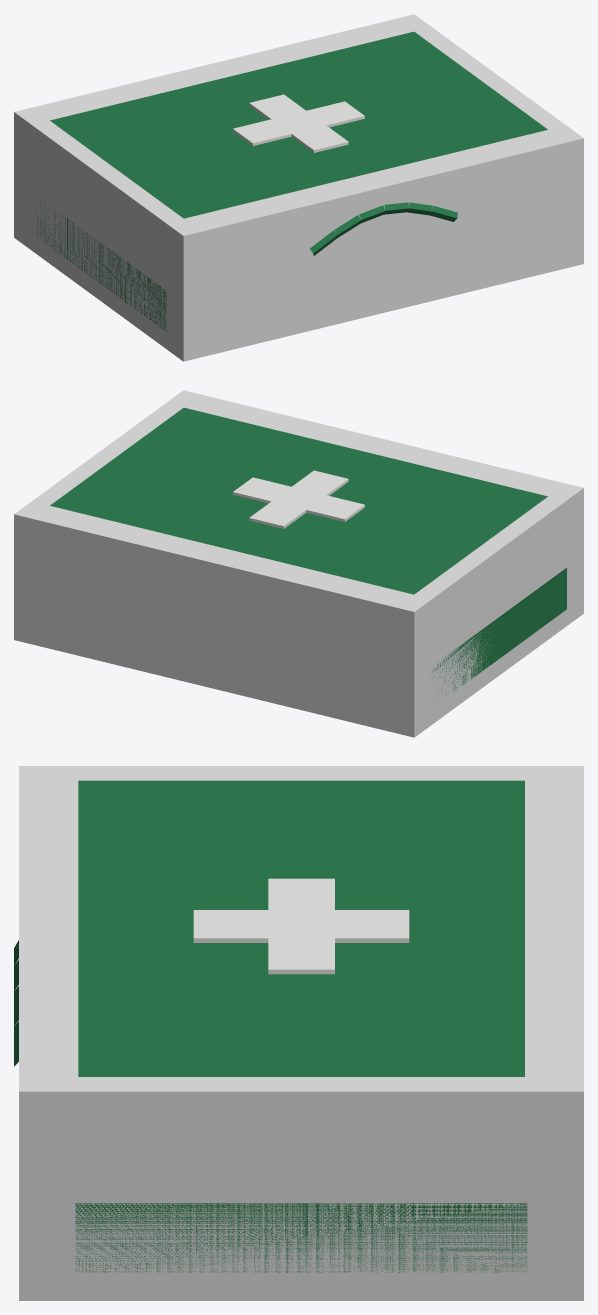
3 renders of one model, top to bottom at view 1: azimuth 30°, elevation 25°; view 2: azimuth 150°, elevation 25°; view 3: azimuth 270°, elevation 25°, orthographic. The views are drawn at different scales.
Parts seen in each view (by area): view 1: COL_first_aid_kit, first_aid_kit; view 2: COL_first_aid_kit, first_aid_kit; view 3: COL_first_aid_kit, first_aid_kit.
Part boxes in pixels (x1,y1,x2,y2): COL_first_aid_kit: (14, 14, 583, 361); first_aid_kit: (31, 31, 547, 331); COL_first_aid_kit: (14, 390, 583, 737); first_aid_kit: (50, 407, 566, 704); COL_first_aid_kit: (19, 766, 583, 1300); first_aid_kit: (14, 780, 527, 1272).
Bounding box in the file's own units: 0.3 × 0.092 × 0.222.
